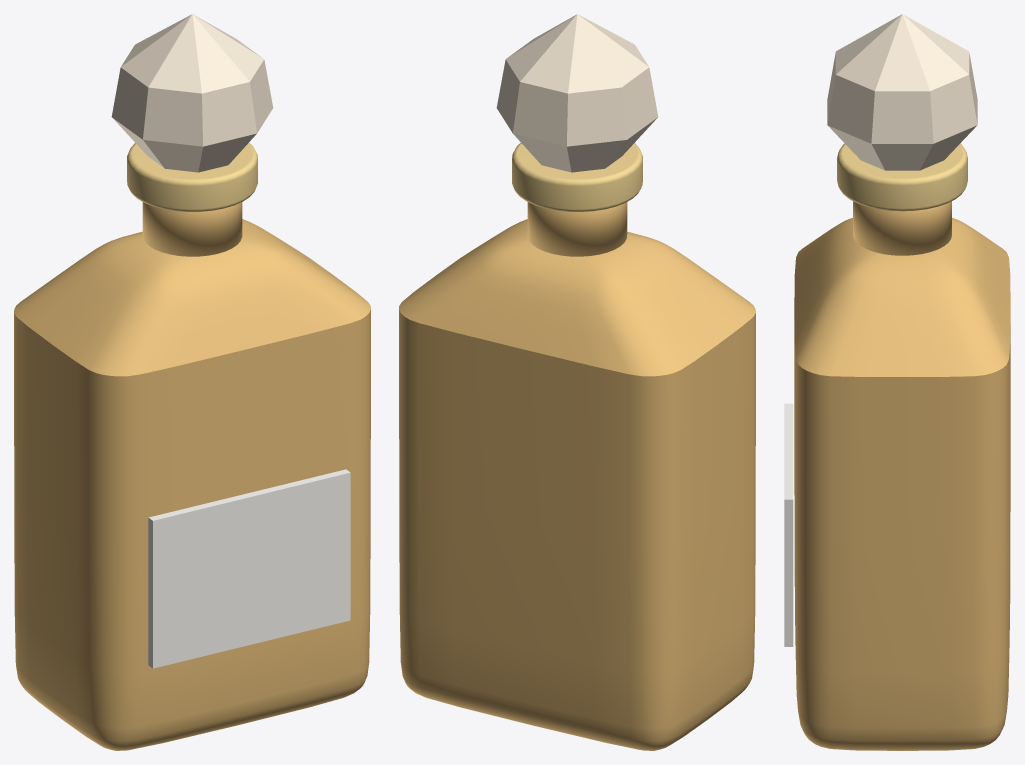
File: essence-bottle.glb
3 views of the same model, side by side, from view 1: azimuth 30°, elevation 25°; view 2: azimuth 150°, elevation 25°; view 3: azimuth 270°, elevation 25° (orthographic).
Parts seen in each view (by area): view 1: EssenceBottle; view 2: EssenceBottle; view 3: EssenceBottle.
Part boxes in pixels (x1,y1,x2,y2): EssenceBottle: (14,14,370,750); EssenceBottle: (399,14,755,750); EssenceBottle: (784,14,1010,750).
Size of the model in its own units: 0.0719 by 0.1669 by 0.0502.
